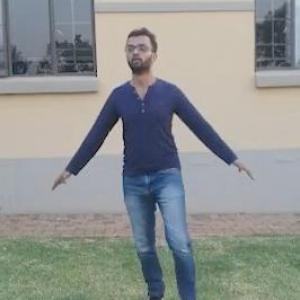land: (68, 20, 270, 284)
